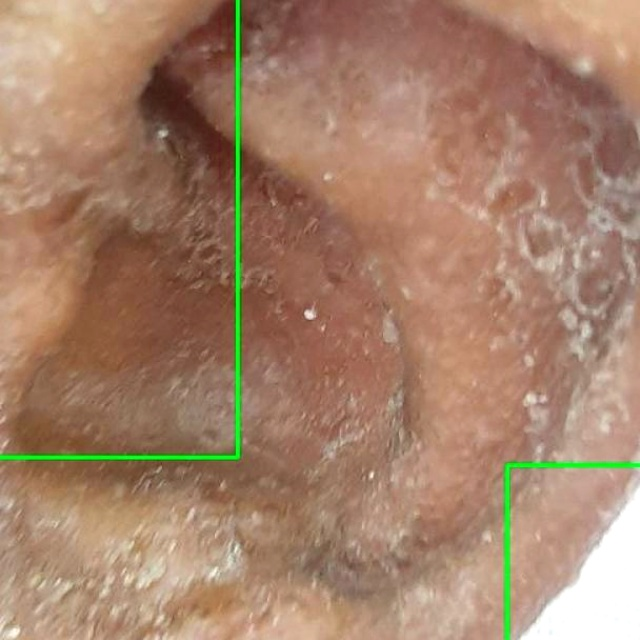Eczema: (0, 0, 237, 457), (507, 465, 639, 639)
